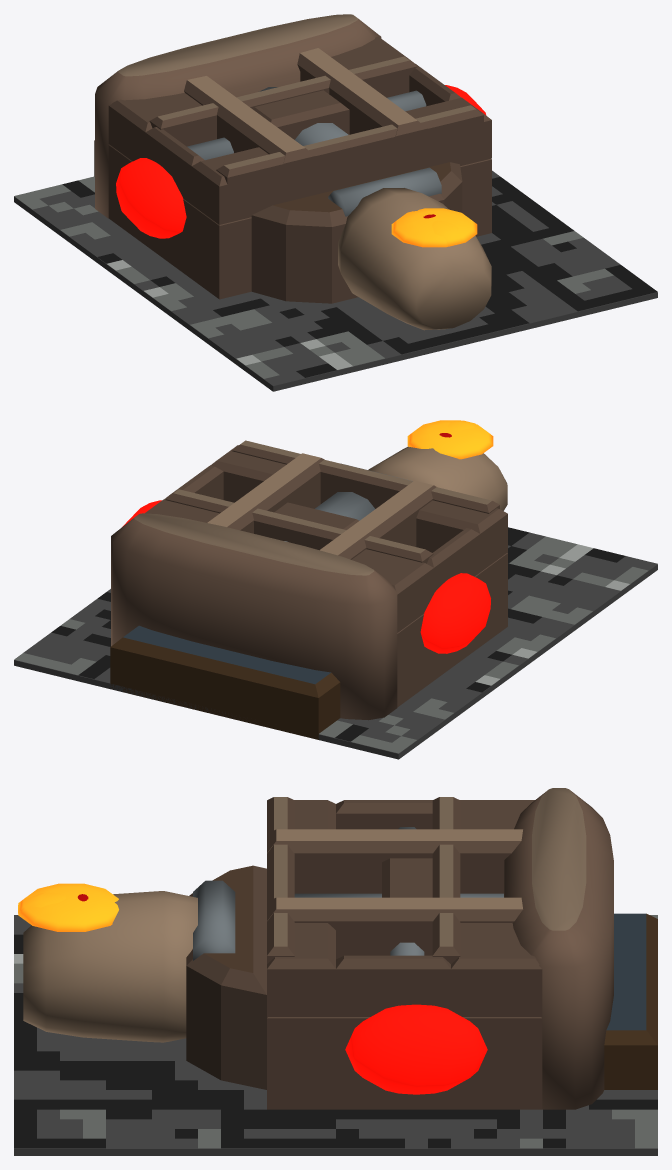
The model's file is newshd-275.glb.
3 renders of one model, top to bottom at view 1: azimuth 30°, elevation 25°; view 2: azimuth 150°, elevation 25°; view 3: azimuth 270°, elevation 25°, orthographic. The views are drawn at different scales.
Parts seen in each view (by area): view 1: newshd-275, newshd-275-muzzle-279; view 2: newshd-275, newshd-275-muzzle-279; view 3: newshd-275, newshd-275-muzzle-279.
Part boxes in pixels (x1,y1,x2,y2): newshd-275: (14, 14, 657, 391); newshd-275-muzzle-279: (391, 208, 477, 247); newshd-275: (14, 440, 657, 759); newshd-275-muzzle-279: (407, 420, 493, 459); newshd-275: (14, 788, 657, 1155); newshd-275-muzzle-279: (18, 883, 118, 931).
Size of the model in its own units: 2 by 0.7 by 2.33.
